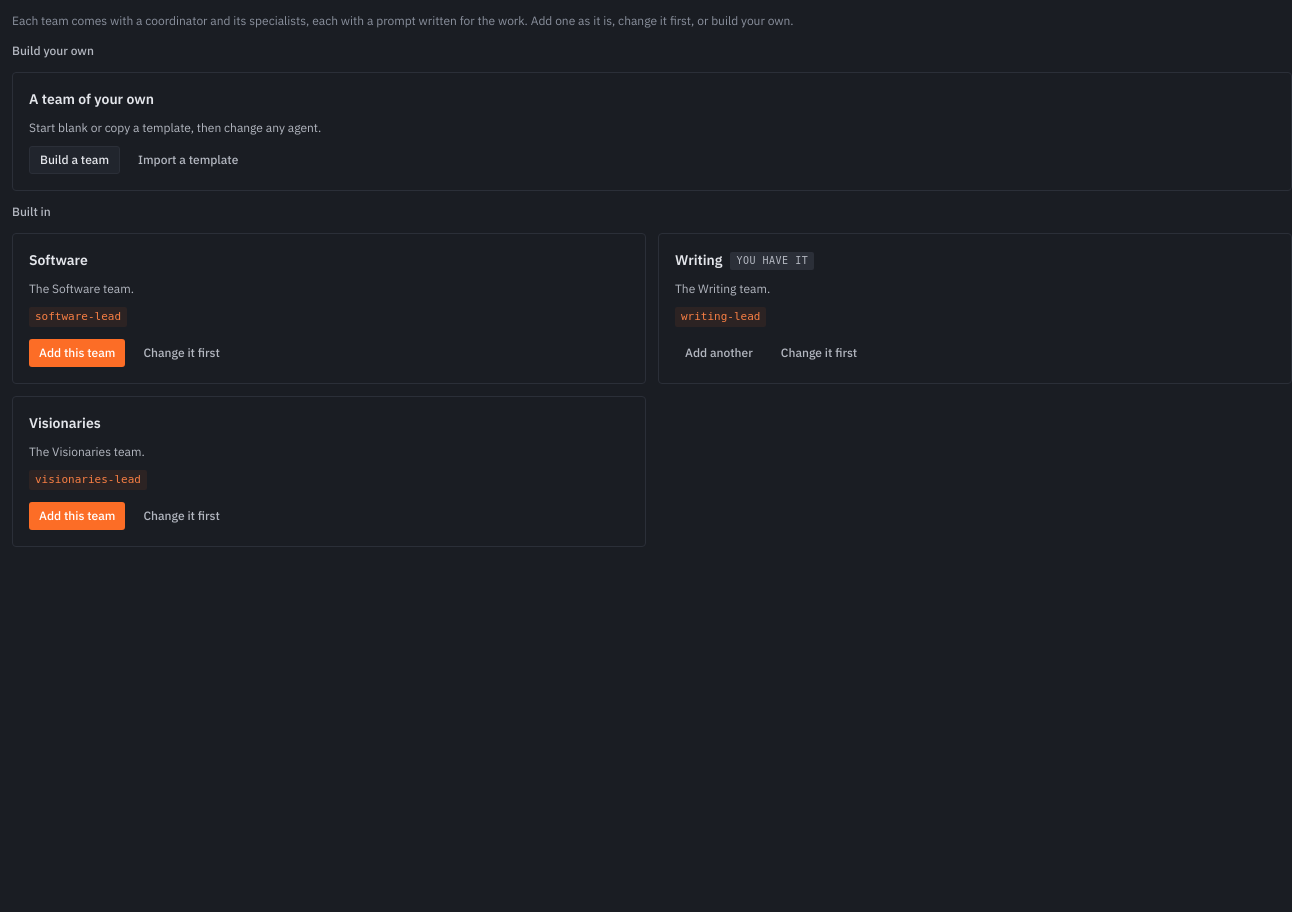
Test: AddTeam: a team refused for its profiles › the offer shows in the refused team's card, scrolled into view
The image size is (1292, 912).
What coordinates should you click on to do the following:
click the button with aria-label "Add this team, Visionaries"
I would click on:
 (77, 516)
Its box is top-left (29, 502), bottom-right (125, 530).
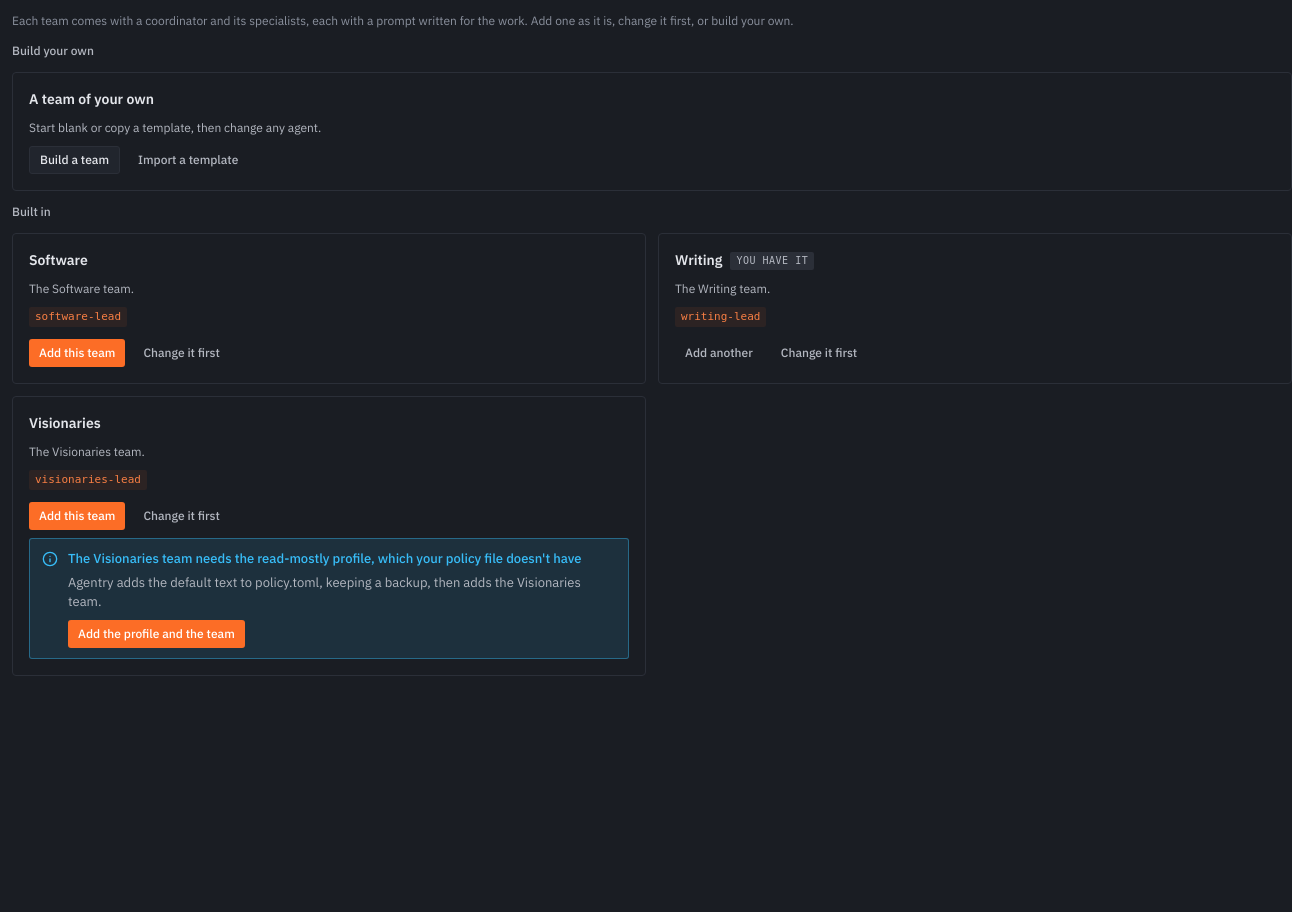
Expected: the message shows "The Visionaries team needs the read-mostly profile", top-left (68, 550), bottom-right (582, 567)
Expected: the button "Add the profile and the team" is shown, top-left (68, 620), bottom-right (245, 648)
